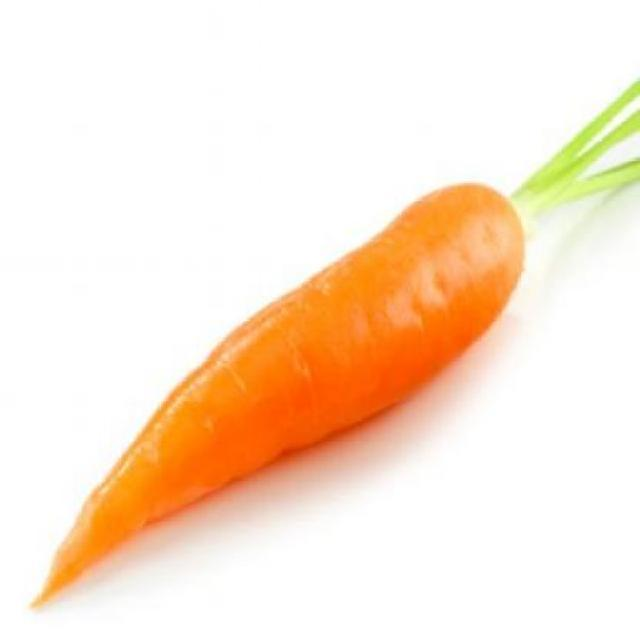carrot: (22, 168, 528, 626)
